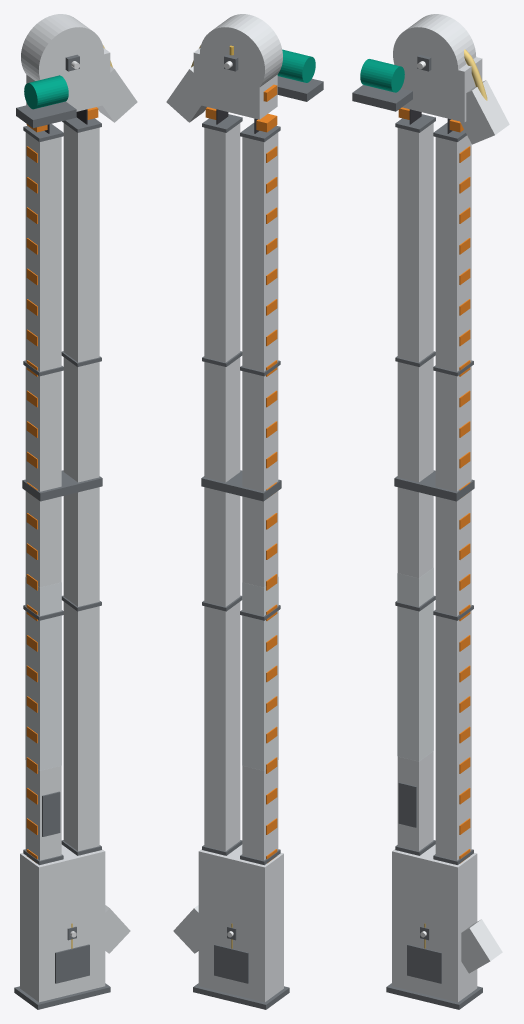
File: elevator_full_diagram69b.glb
3 views of the same model, side by side, from view 1: azimuth 30°, elevation 25°; view 2: azimuth 150°, elevation 25°; view 3: azimuth 330°, elevation 25° (orthographic).
Parts seen in each view (by area): view 1: Casing_Trunking_DownLeg, Casing_Trunking_UpLeg, Boot_Casing_Main_Housing, Inspection_Viewport_Cutaway_Mid, Casing_Head_SplitHood_Removable, Casing_Head_Lower_With_Saddle, Drive_Electric_Motor_Gearbox, Boot_Cleanout_Door_Front, Drive_Motor_Mounting_Platform, Discharge_Spout_Centrifugal, Rotation_Frame_Tie_Brace, Inspection_Door_UpLeg_EyeLevel (+4 smaller); view 2: Casing_Trunking_DownLeg, Casing_Trunking_UpLeg, Boot_Casing_Main_Housing, Inspection_Viewport_Cutaway_Mid, Casing_Head_SplitHood_Removable, Casing_Head_Lower_With_Saddle, Boot_Cleanout_Door_Back, Discharge_Spout_Centrifugal, Rotation_Frame_Tie_Brace, Drive_Electric_Motor_Gearbox, Drive_Motor_Mounting_Platform, Boot_Base_Mounting_Plate (+3 smaller); view 3: Casing_Trunking_UpLeg, Casing_Trunking_DownLeg, Boot_Casing_Main_Housing, Inspection_Viewport_Cutaway_Mid, Casing_Head_SplitHood_Removable, Casing_Head_Lower_With_Saddle, Discharge_Spout_Centrifugal, Boot_Feed_Spout_Intake, Drive_Electric_Motor_Gearbox, Boot_Cleanout_Door_Front, Drive_Motor_Mounting_Platform, Rotation_Frame_Tie_Brace (+3 smaller).
Part boxes in pixels (x1,y1,x2,y2): Casing_Trunking_DownLeg: [63, 123, 99, 851]; Casing_Trunking_UpLeg: [25, 132, 61, 860]; Boot_Casing_Main_Housing: [20, 844, 105, 1002]; Inspection_Viewport_Cutaway_Mid: [25, 577, 61, 770]; Casing_Head_SplitHood_Removable: [21, 14, 103, 96]; Casing_Head_Lower_With_Saddle: [26, 48, 110, 111]; Drive_Electric_Motor_Gearbox: [24, 75, 68, 109]; Boot_Cleanout_Door_Front: [55, 944, 89, 983]; Drive_Motor_Mounting_Platform: [16, 101, 76, 128]; Discharge_Spout_Centrifugal: [97, 66, 137, 122]; Rotation_Frame_Tie_Brace: [22, 470, 102, 501]; Inspection_Door_UpLeg_EyeLevel: [42, 791, 60, 836]; Casing_Trunking_DownLeg: [204, 123, 240, 851]; Casing_Trunking_UpLeg: [242, 132, 278, 860]; Boot_Casing_Main_Housing: [198, 844, 283, 1002]; Inspection_Viewport_Cutaway_Mid: [242, 577, 278, 770]; Casing_Head_SplitHood_Removable: [200, 14, 282, 96]; Casing_Head_Lower_With_Saddle: [193, 48, 277, 119]; Boot_Cleanout_Door_Back: [214, 944, 248, 983]; Discharge_Spout_Centrifugal: [166, 66, 206, 122]; Rotation_Frame_Tie_Brace: [201, 470, 281, 501]; Drive_Electric_Motor_Gearbox: [277, 49, 315, 82]; Drive_Motor_Mounting_Platform: [277, 76, 323, 101]; Boot_Base_Mounting_Plate: [193, 983, 289, 1009]; Casing_Trunking_UpLeg: [397, 123, 433, 851]; Casing_Trunking_DownLeg: [435, 135, 471, 860]; Boot_Casing_Main_Housing: [392, 844, 477, 1002]; Inspection_Viewport_Cutaway_Mid: [397, 568, 433, 761]; Casing_Head_SplitHood_Removable: [393, 14, 476, 97]; Casing_Head_Lower_With_Saddle: [398, 56, 482, 122]; Discharge_Spout_Centrifugal: [460, 80, 509, 144]; Boot_Feed_Spout_Intake: [461, 919, 502, 973]; Drive_Electric_Motor_Gearbox: [360, 59, 404, 92]; Boot_Cleanout_Door_Front: [407, 944, 441, 983]; Drive_Motor_Mounting_Platform: [352, 85, 412, 111]; Rotation_Frame_Tie_Brace: [394, 470, 474, 501].
Bounding box in the file's own units: 1.27 × 9.54 × 0.73.
